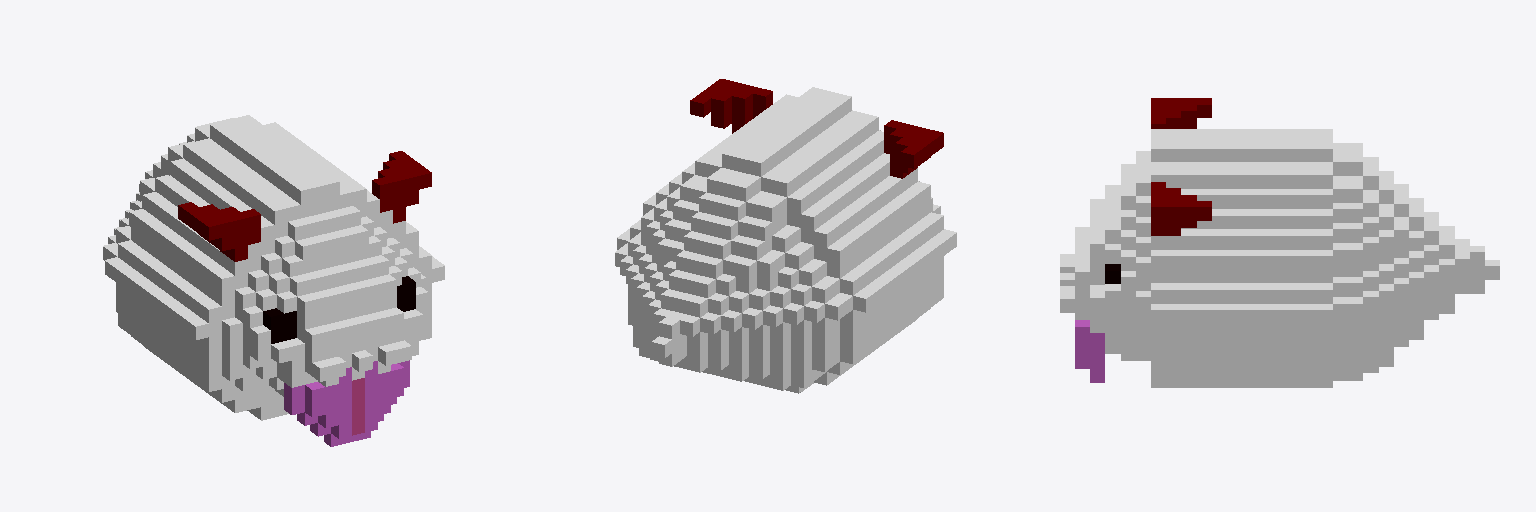
The picture shows the model from 3 angles: view 1: azimuth 30°, elevation 25°; view 2: azimuth 150°, elevation 25°; view 3: azimuth 270°, elevation 25°; orthographic projection.
Visible parts, largest first — view 1: poroCuerpo; view 2: poroCuerpo; view 3: poroCuerpo.
Part boxes in pixels (x1,y1,x2,y2): poroCuerpo: (103,115,444,446); poroCuerpo: (615,79,956,393); poroCuerpo: (1060,98,1499,387).
Bounding box in the file's own units: 1.9 × 1.7 × 2.9.
Materials: 1 (1 with a texture image).